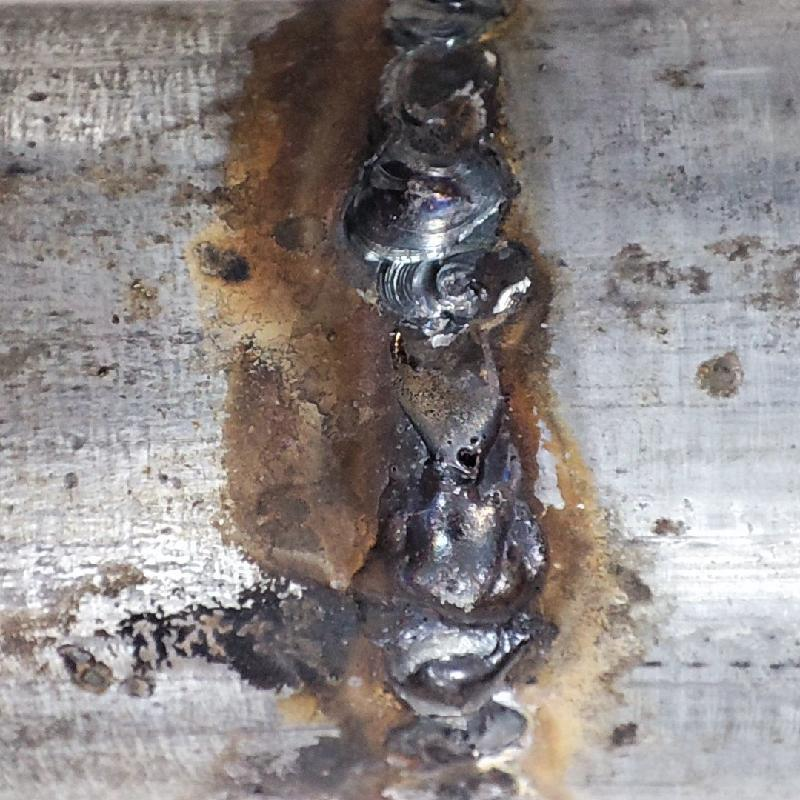Not_fully_soldered: (372, 256, 510, 481)
Surface_pores: (428, 428, 494, 476)
Weld: (364, 480, 553, 718)
wrong_size: (352, 2, 507, 263)
